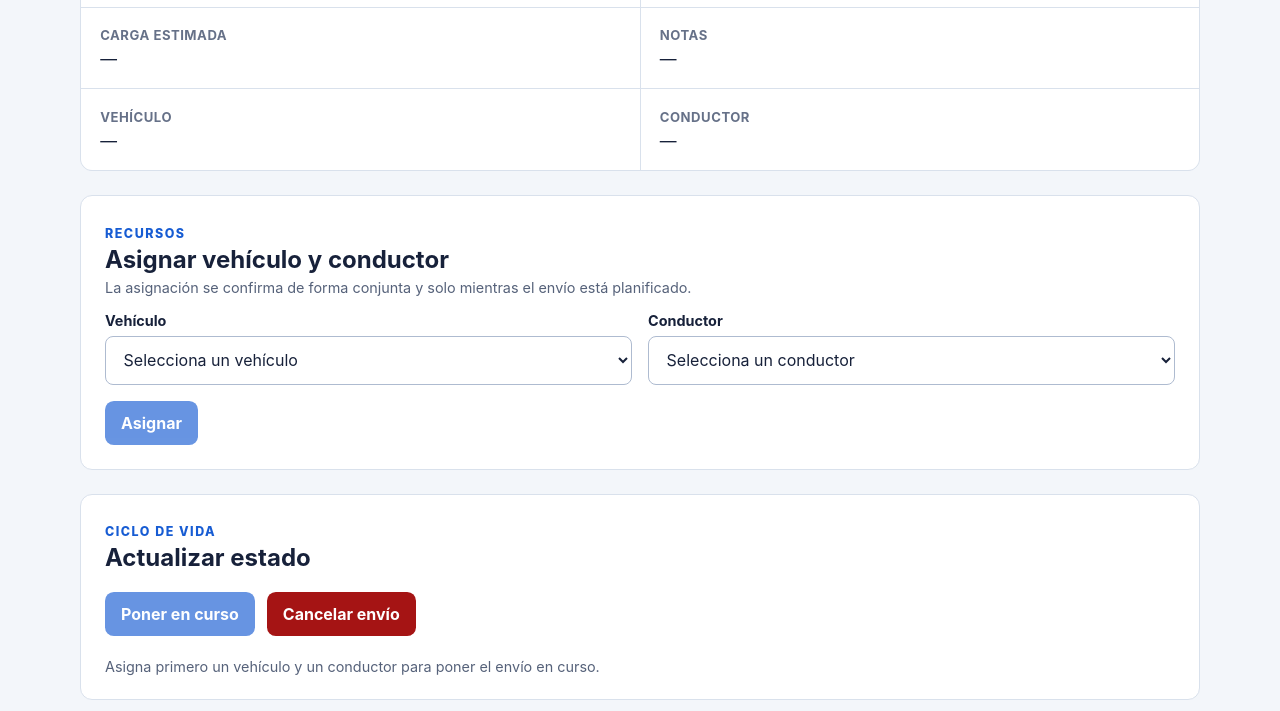
it: envíos › assigns both resources and repaints the detail without reloading the shipment
(page scrolled)
Select "1234 ABC" in the dropdown labelled "Vehículo" at (368, 360), box [105,336,632,385]
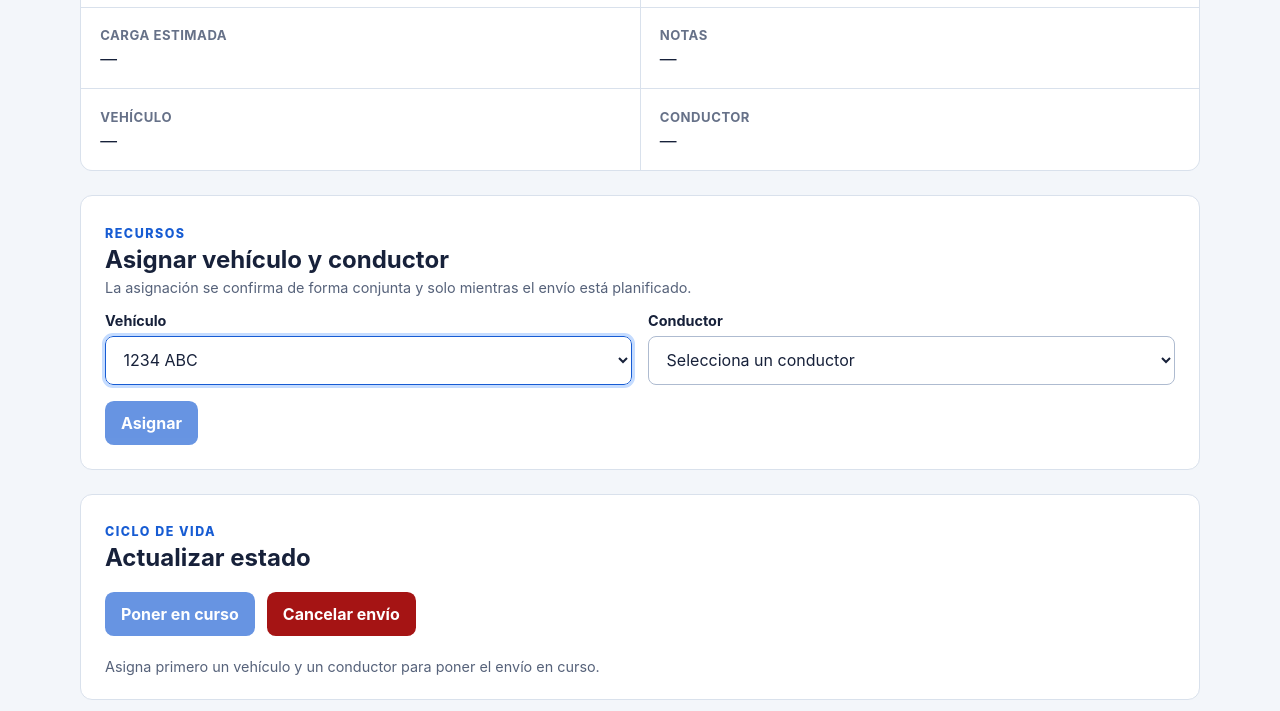
Select "Ana" in the dropdown labelled "Conductor" at (912, 360), box [648,336,1175,385]
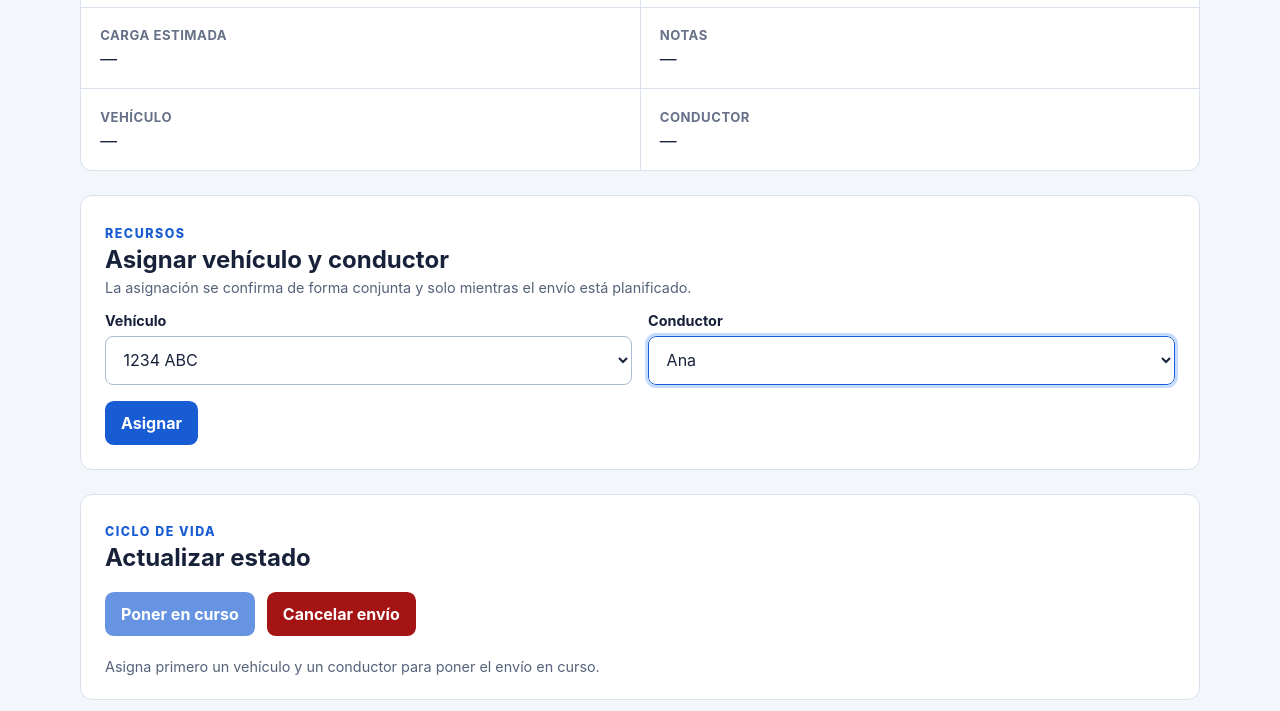
Click the button "Asignar".
click(151, 423)  # box [105,401,198,445]
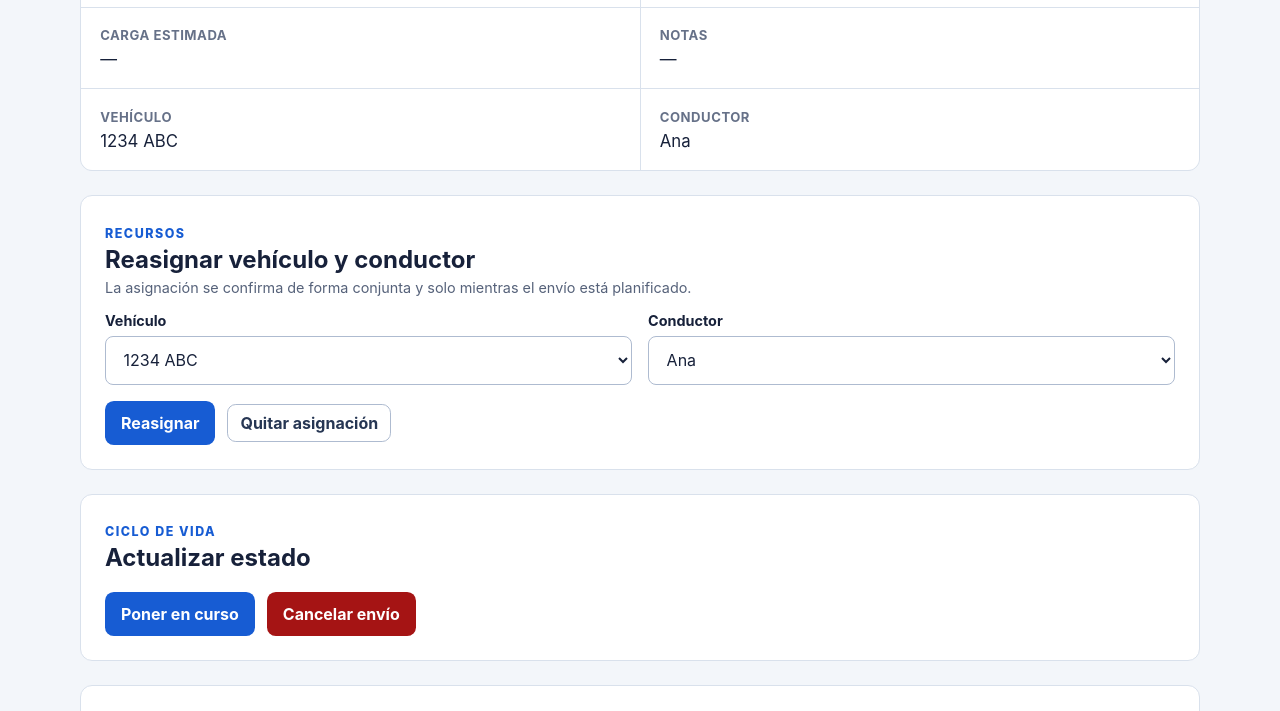
Expected: the text "1234 ABC" is shown, [100,131,178,151]
Expected: the text "Ana" is shown, [660,131,691,151]
